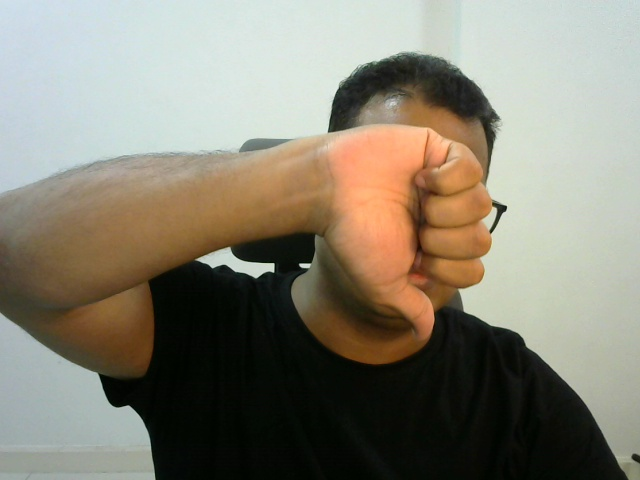ThumbsDown: (316, 122, 492, 349)
